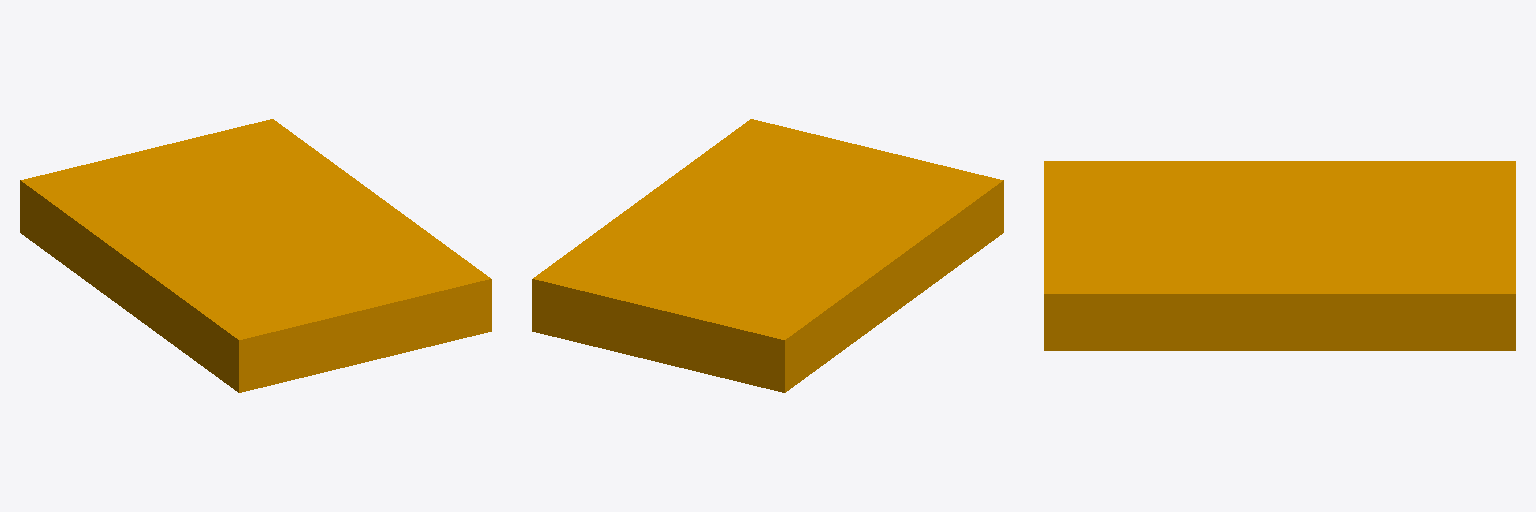
robot.urdf — cube_urdf:
<?xml version="1.0"?>
<robot
    xmlns:xacro="http://www.ros.org/wiki/xacro" name="cube_urdf" >

  <link name="cube_link">

    <visual>
      <origin xyz="0 0 0"/>
      <geometry>
        <mesh filename="package://dragon/urdf/mesh/Wall_Plane.STL" scale="0.001 0.001 0.001"/>
        <!-- <box size="1 1 1" /> -->
      </geometry>
    </visual>

    <inertial>
      <origin xyz="0.0 0.0 0.75"/>
      <mass value="1.0"/>
      <inertia
            ixx="0.01" ixy="0.0" ixz="0.0"
            iyy="0.01" iyz="0.0"
            izz="0.01"/>
    </inertial>

    <collision>
      <origin xyz="0 0 0"/>
      <geometry>
        <mesh filename="package://dragon/urdf/mesh/Wall_Plane.STL" scale="0.001 0.001 0.001"/>
        <!-- <box size="1 1 1" /> -->
      </geometry>
    </collision>

  </link>

</robot>

--- Facts derived from the render (not from the file) ---
Views: 3 orthographic renders of the robot side by side, from view 1: azimuth 30°, elevation 25°; view 2: azimuth 150°, elevation 25°; view 3: azimuth 270°, elevation 25°.
Robot: cube_urdf — 1 links, 0 joints (none); root link cube_link; default pose: all joints at 0.
Visible links, largest first — view 1: cube_link; view 2: cube_link; view 3: cube_link.
Boxes of the visible links, x1=… form: cube_link: x1=20, y1=119, x2=491, y2=392; cube_link: x1=532, y1=119, x2=1003, y2=392; cube_link: x1=1044, y1=161, x2=1515, y2=350.
Bounding box of the posed robot: 1 × 1.5 × 0.2 m (x, y, z).
Meshes: 1 distinct files referenced, 1 mesh visuals loaded (1 binary STL).